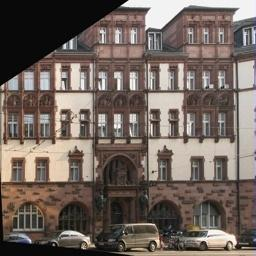building: (92, 0, 238, 237)
